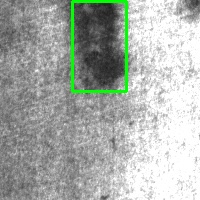patches: (72, 1, 126, 91)
